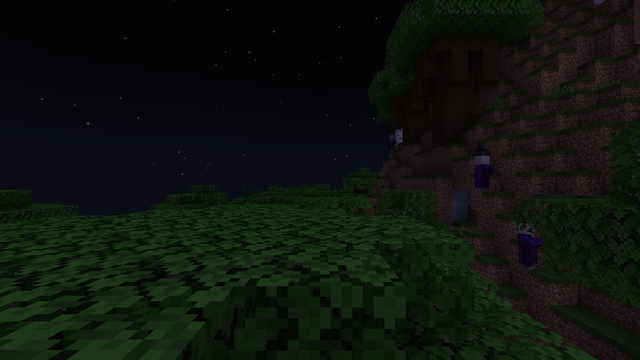sorcieres: (515, 219, 541, 270), (472, 154, 490, 191), (388, 134, 394, 151)
